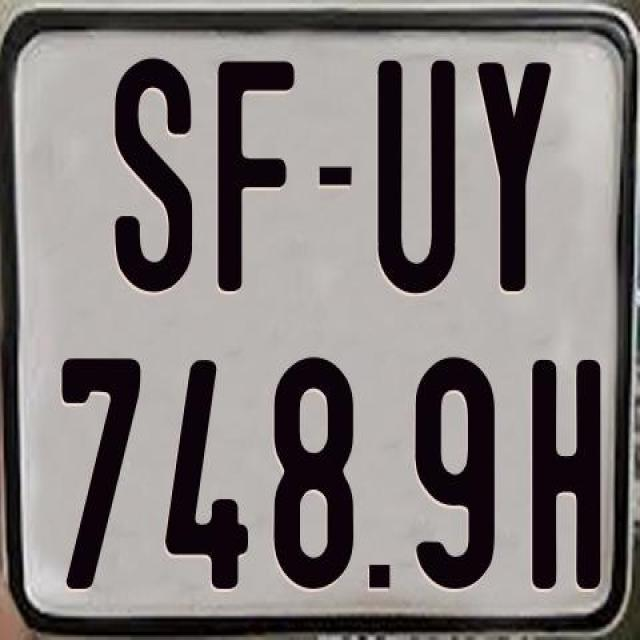4: (165, 357, 248, 589)
7: (62, 358, 150, 592)
8: (269, 354, 355, 586)
9: (413, 356, 500, 590)
F: (214, 61, 298, 293)
H: (528, 357, 603, 592)
S: (110, 53, 190, 290)
U: (374, 58, 456, 292)
Y: (476, 58, 555, 286)
